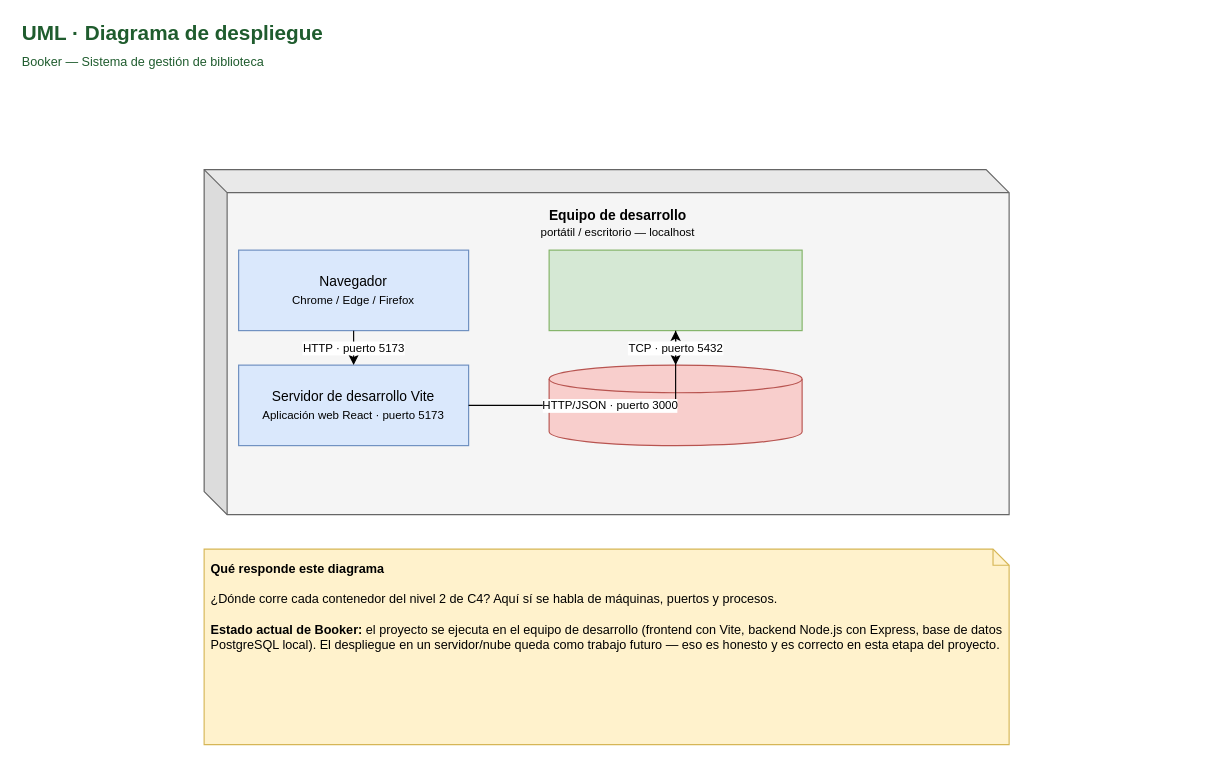
Image size: 1212x765. Some labels were removed from this diagram. Here are the shapes that lost their labels. From the top down, the centre of each, then its label:
At pixel 675 290: "API REST Node.js + Express · puerto 3000".
At pixel 675 405: "PostgreSQL instancia local / contenedor Docker".
